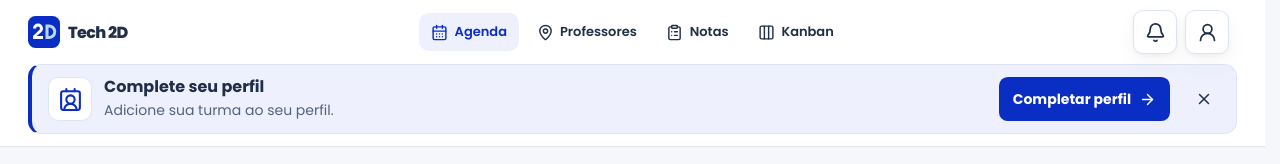
it: offers a direct link for an incomplete profile and remembers dismissal for the session
Expected: the text "Adicione sua turma ao seu perfil." is shown, [104,100,334,120]
Click the button named "Dispensar lembrete de perfil" at (1204, 99), box [1182,77,1226,121]
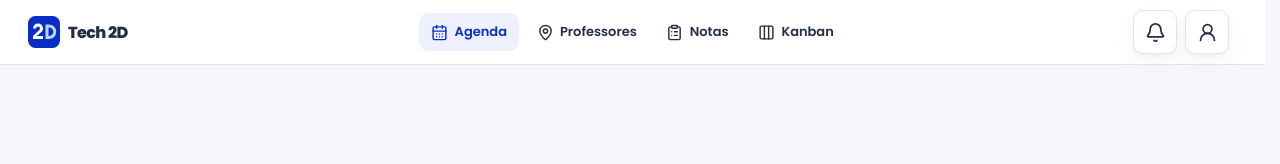
Result: the text "Complete seu perfil" is gone
